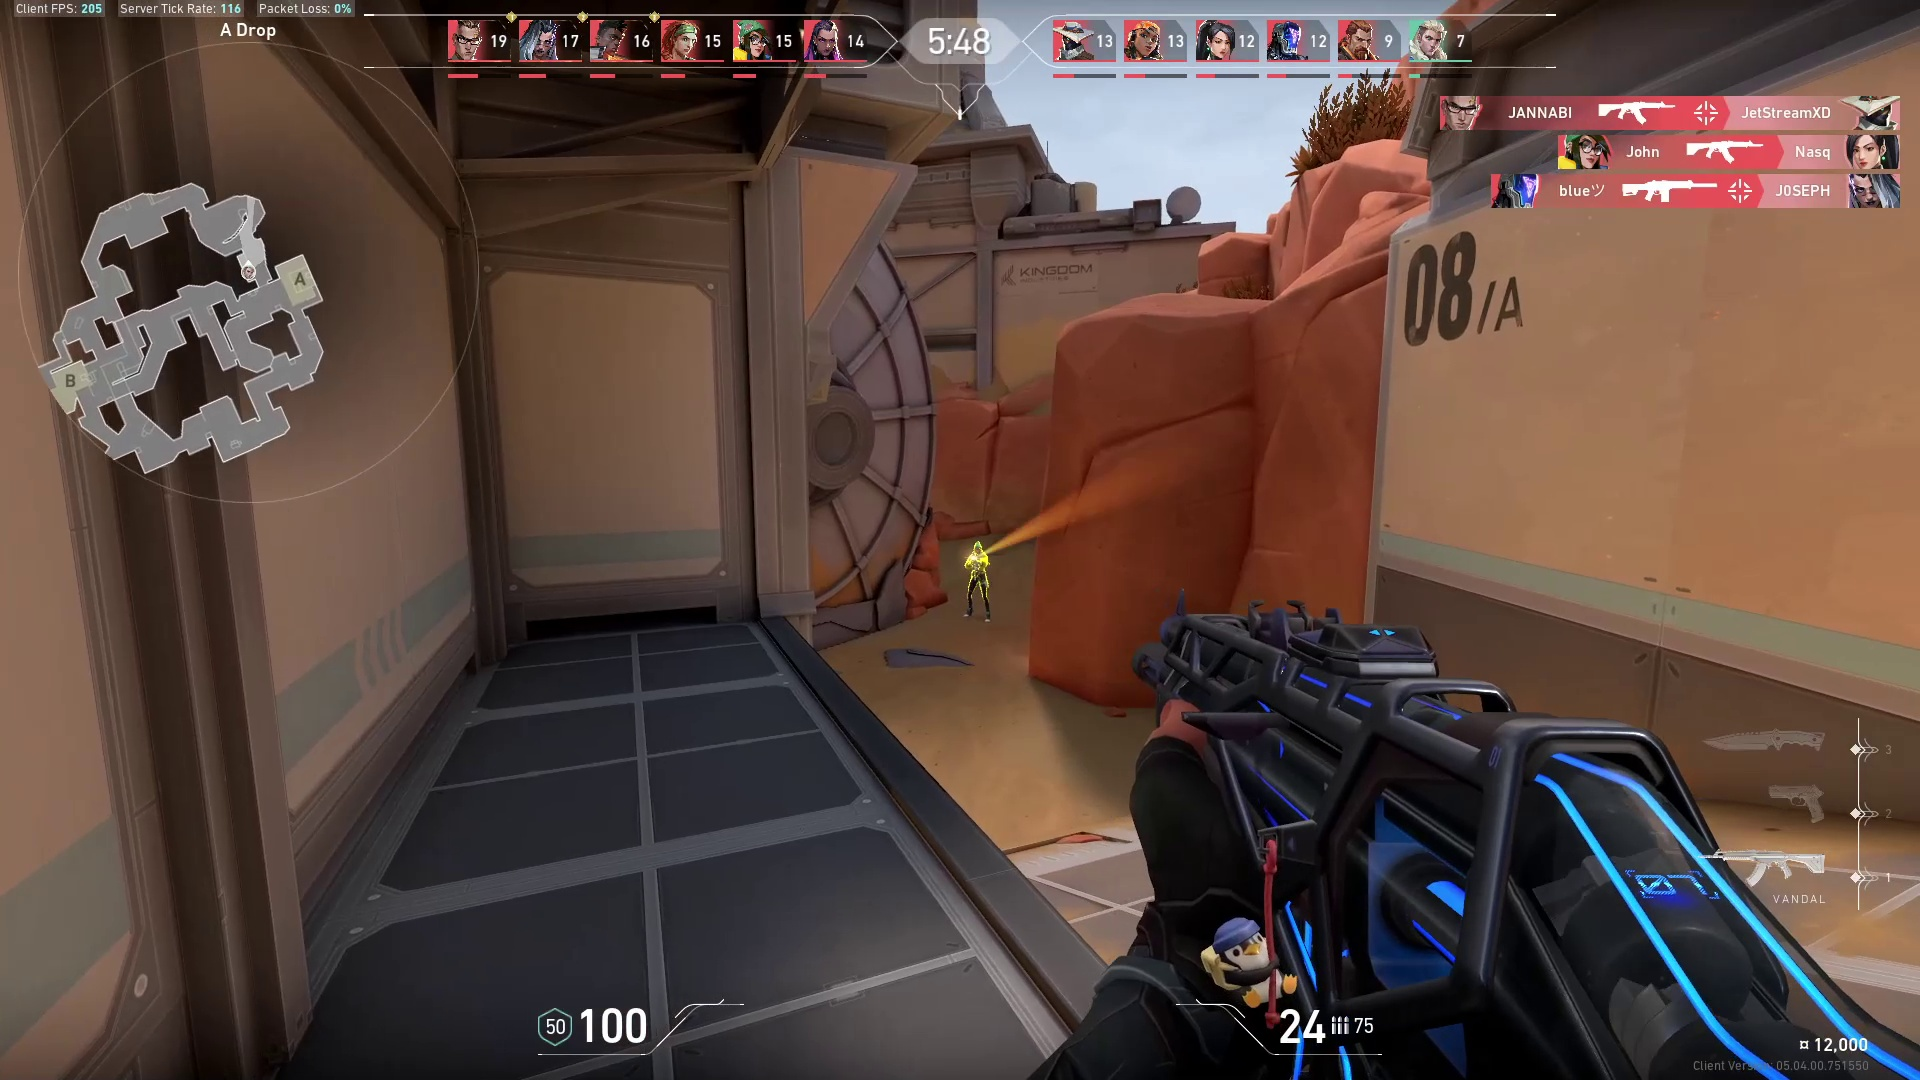1: (965, 551, 994, 626)
["enemy_head", "enemy_body", "enemy_gen", "dog"]: (971, 539, 984, 556)
